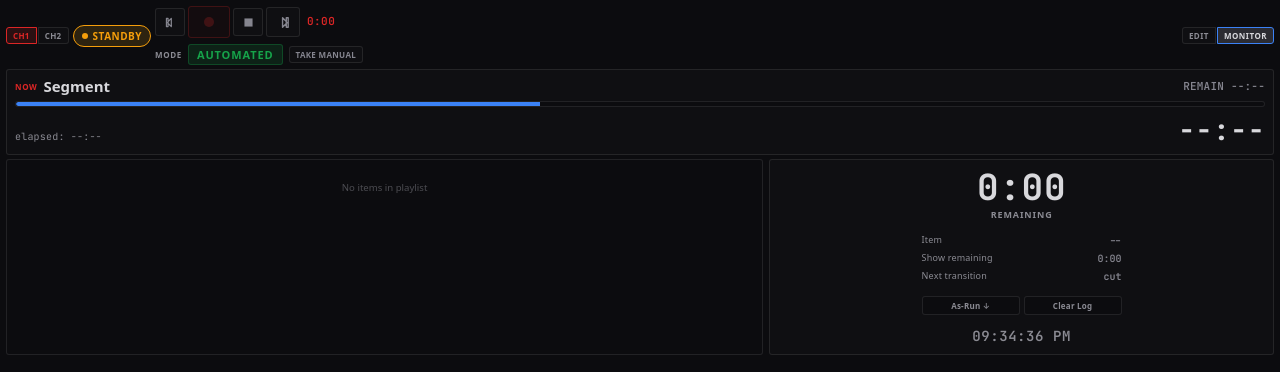
Test: PlayoutPanel › shows progress bar with color-coded zones
Force edit mode
Click the button with class "mode-btn-toggle" showing "EDIT".
click(1199, 36)  # box x1=1182 y1=27 x2=1216 y2=44
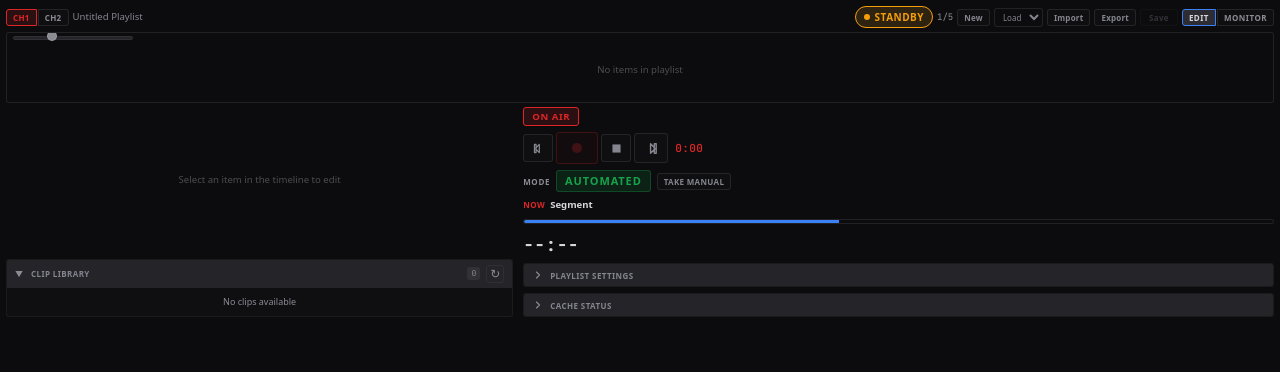
Expected: the element with class "normal" is shown, x1=524 y1=220 x2=839 y2=223
